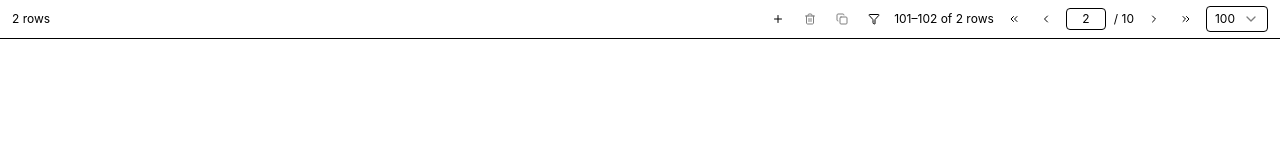
DataGridToolbar — Sprint 179 paradigm-aware labels (AC-179-03) › PageJumpInput (Sprint 289) › Escape 키 입력 시 draft 를 외부 page 로 revert (commit 없음)
The image size is (1280, 160).
Step 1. Replace the text in the number field named "Jump to page" with "9" → [1086, 19], box top-left (1066, 8), bottom-right (1106, 30)
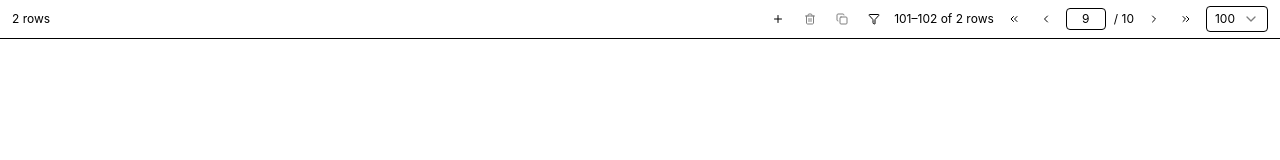
Step 2. Press Escape in the number field named "Jump to page", box top-left (1066, 8), bottom-right (1106, 30)
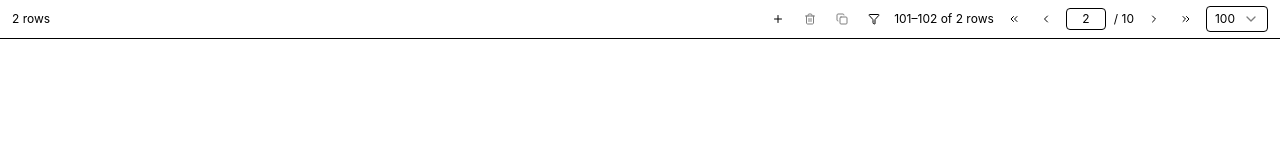
Expected: the number field named "Jump to page" holds "2", top-left (1066, 8), bottom-right (1106, 30)
